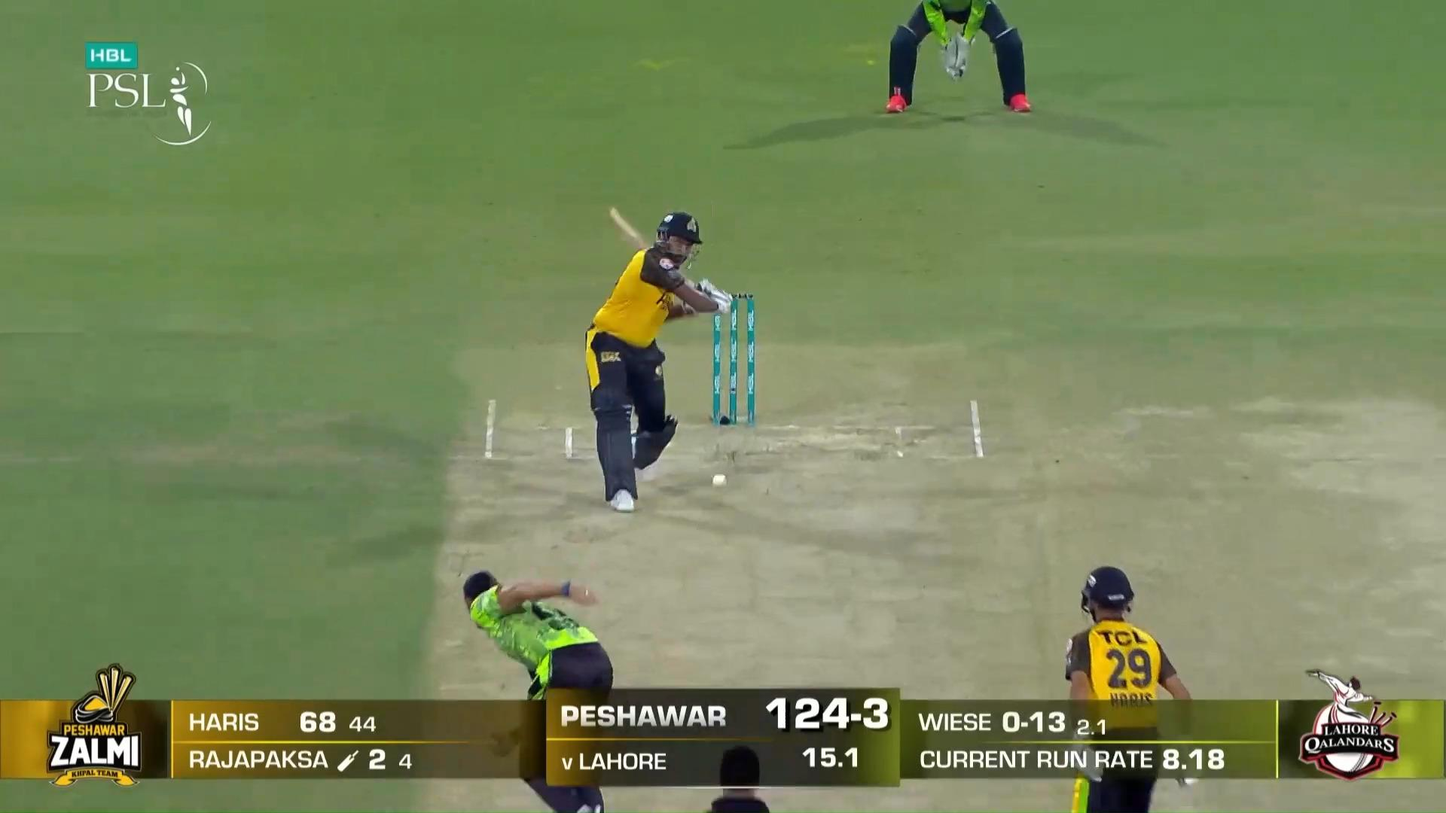batsman: (585, 207, 733, 514)
